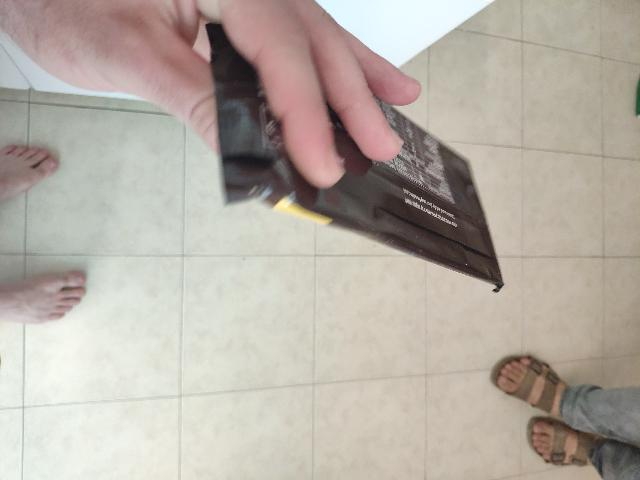chocolate: (167, 113, 458, 449)
